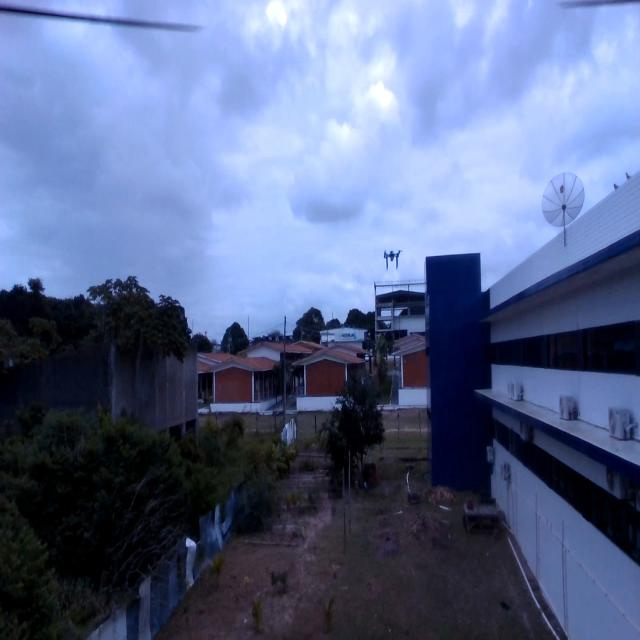-uav-: (376, 238, 409, 283)
